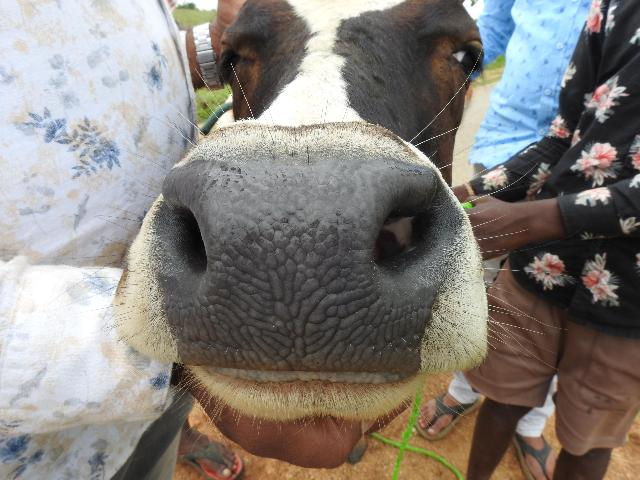Muzzle: (191, 165, 379, 366)
